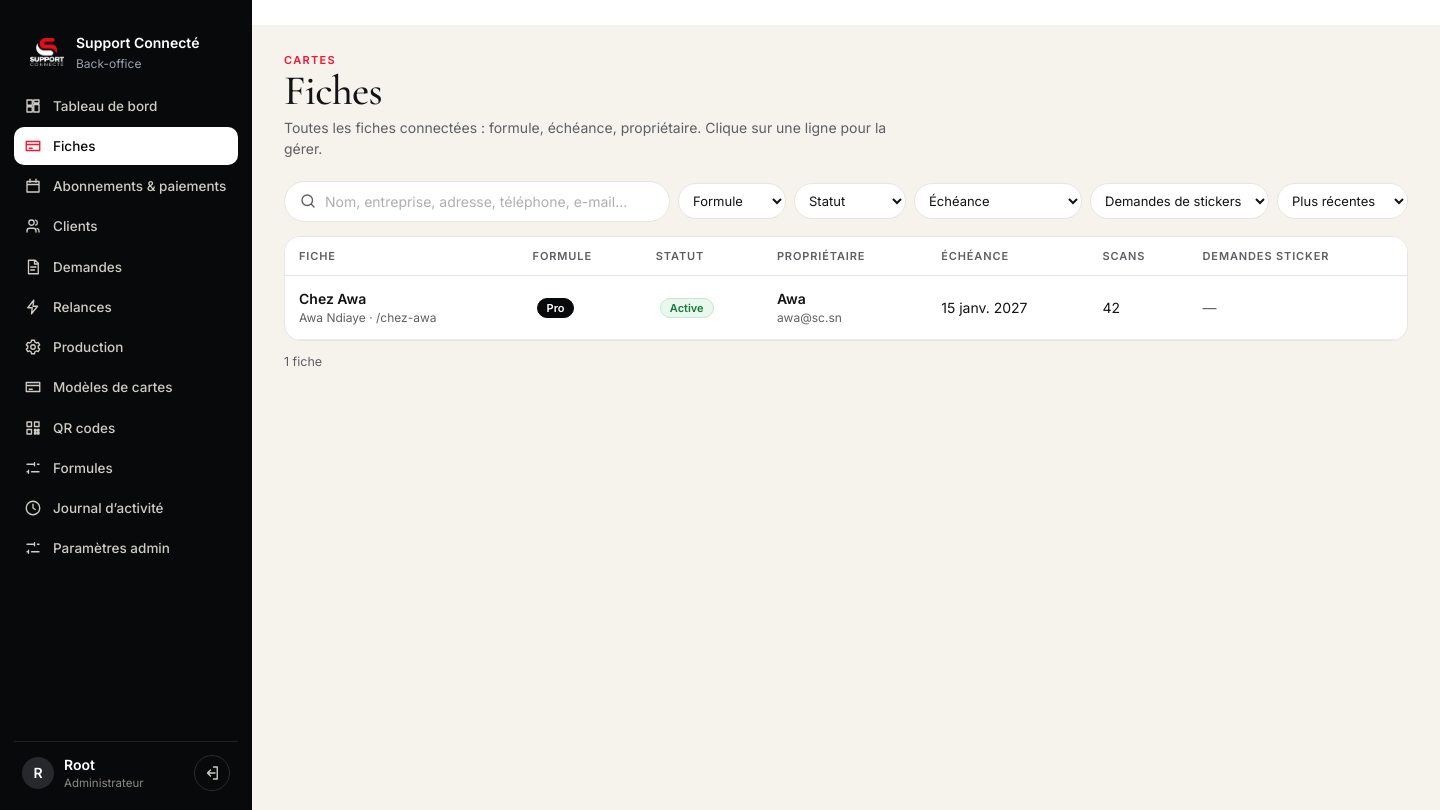
Test case: pages du back-office › permet de filtrer les demandes de stickers depuis la page Fiches
Select "À traiter" in the dropdown named "Demandes de stickers". click: (1180, 201)
box: [1090,183,1269,219]
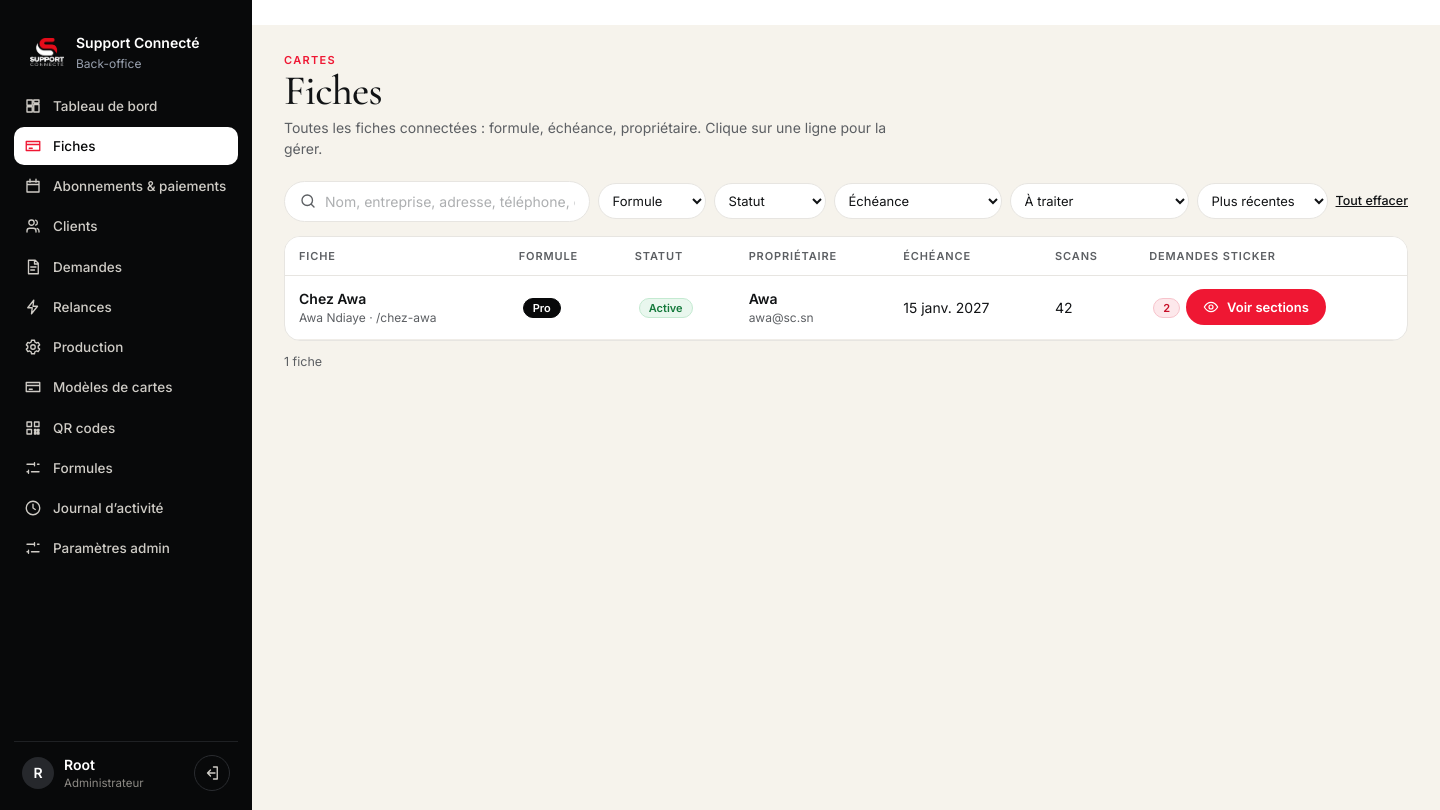
Expected: the text "Voir sections" is shown, [1186,289,1326,325]
